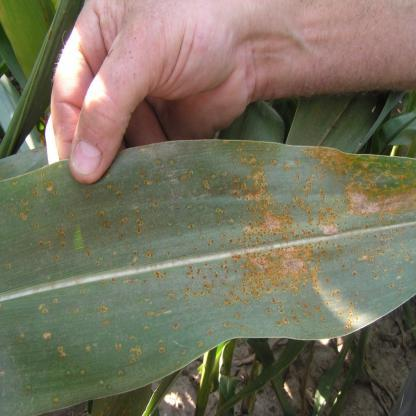Corn rust leaf: (2, 142, 416, 390)
